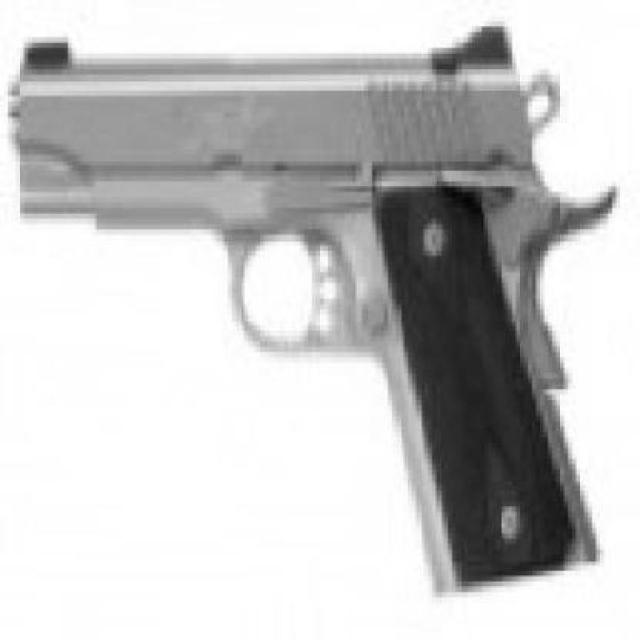weapon: (7, 25, 616, 601)
